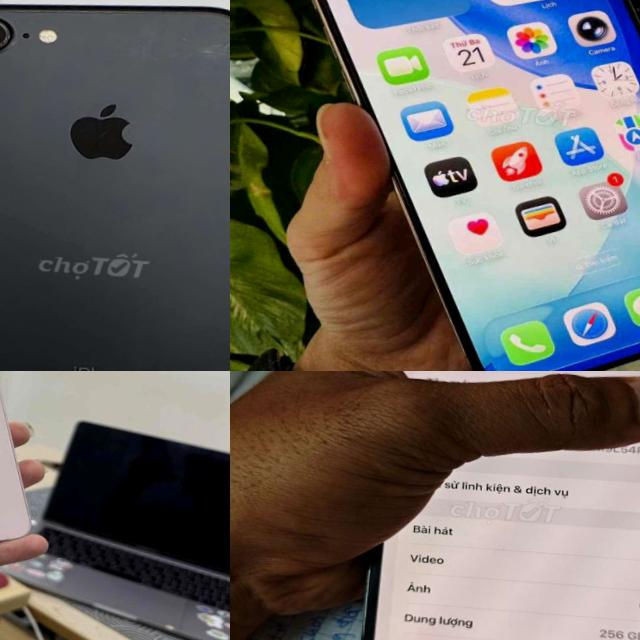scratch: (175, 22, 230, 65), (0, 10, 16, 55)
